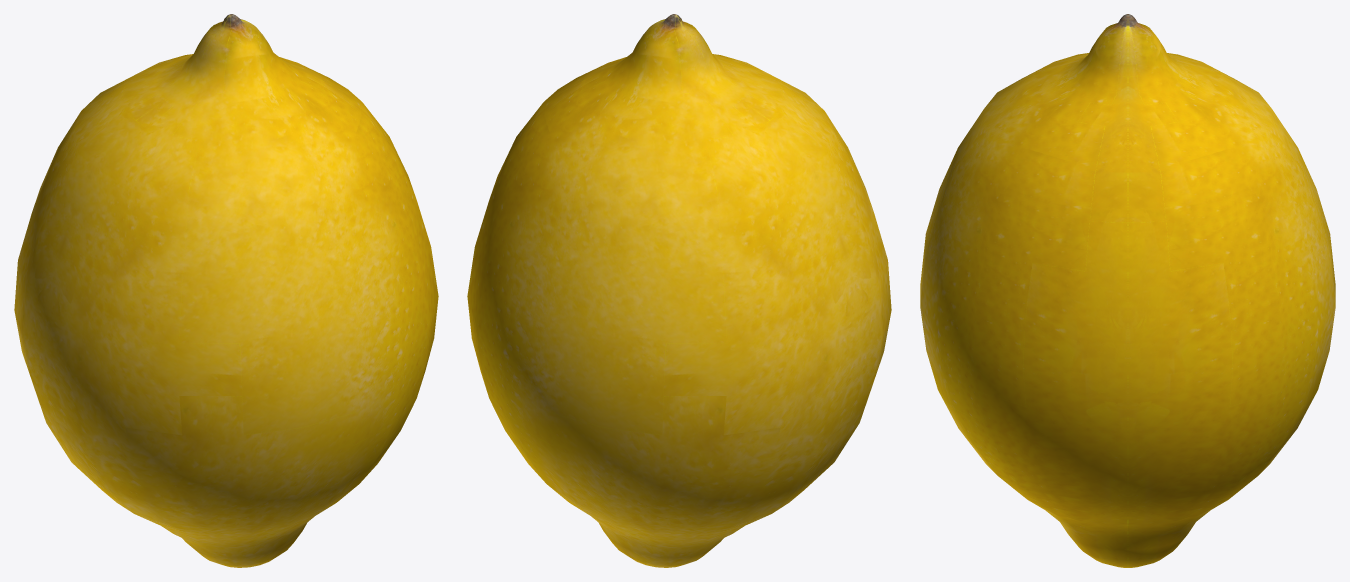
Rendered from lemon.glb.
3 views of the same model, side by side, from view 1: azimuth 30°, elevation 25°; view 2: azimuth 150°, elevation 25°; view 3: azimuth 270°, elevation 25° (orthographic).
Visible parts, largest first — view 1: Lemon; view 2: Lemon; view 3: Lemon.
Part boxes in pixels (<box>): Lemon: <box>14,14,438,567</box>; Lemon: <box>467,14,891,567</box>; Lemon: <box>920,14,1335,567</box>.
Bounding box in the file's own units: 76.02 × 110 × 76.09.
Materials: 1 (1 with a texture image).
